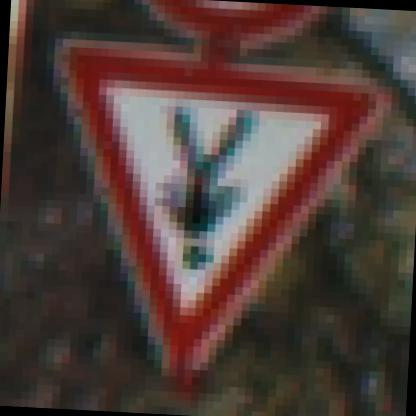crosswalk: (21, 4, 378, 386)
